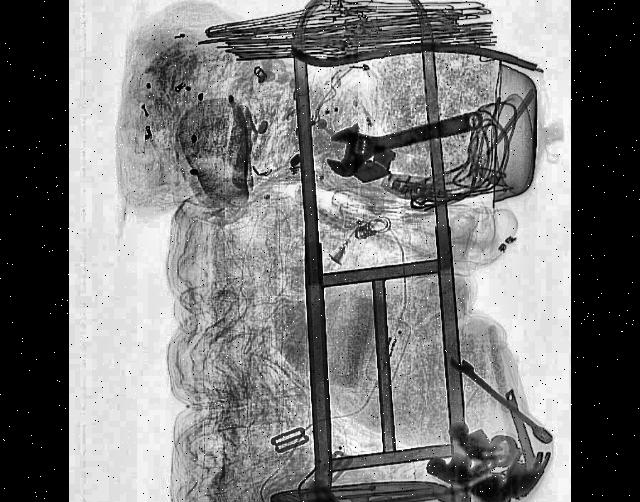Wrench: (323, 92, 484, 180), (448, 349, 554, 447)
